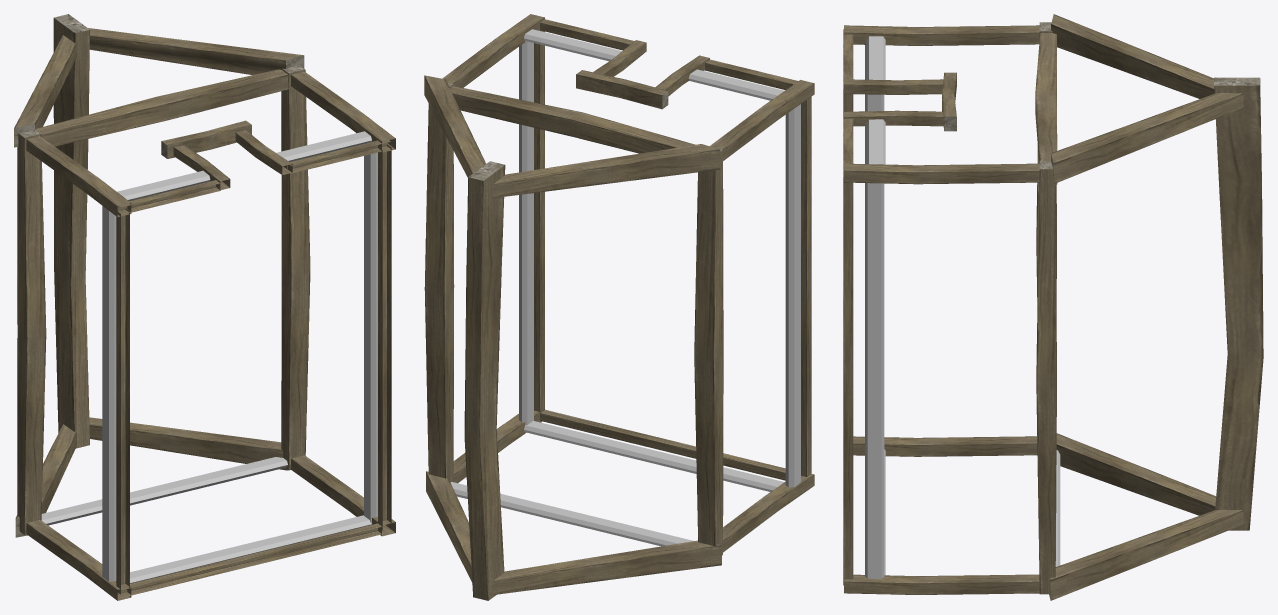
File: Pirate_House_Structure_A.fbx
3 views of the same model, side by side, from view 1: azimuth 30°, elevation 25°; view 2: azimuth 150°, elevation 25°; view 3: azimuth 270°, elevation 25° (orthographic). The views are drawn at different scales.
Parts seen in each view (by area): view 1: Pirate_House_Structure_A; view 2: Pirate_House_Structure_A; view 3: Pirate_House_Structure_A.
Part boxes in pixels (x1,y1,x2,y2): Pirate_House_Structure_A: (14,14,395,600); Pirate_House_Structure_A: (424,14,814,600); Pirate_House_Structure_A: (843,14,1263,600).
Size of the model in its own units: 7.12 by 9.74 by 8.34.
